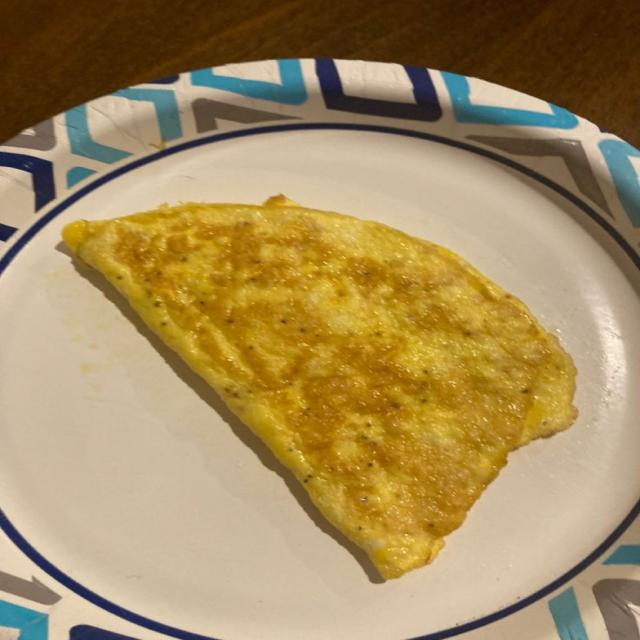omelette: (64, 197, 576, 578)
